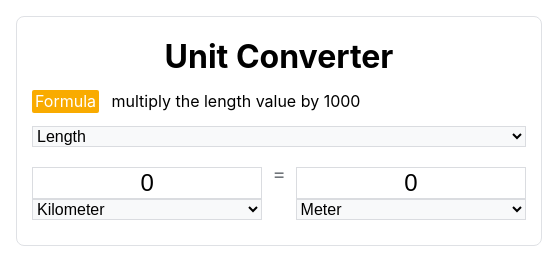
Test: Regression Test Suite › All inputs work › units swap correctly
Select "Meter" in the 1st dropdown with test id "unit-selector": (147, 210) x1=32 y1=199 x2=262 y2=220
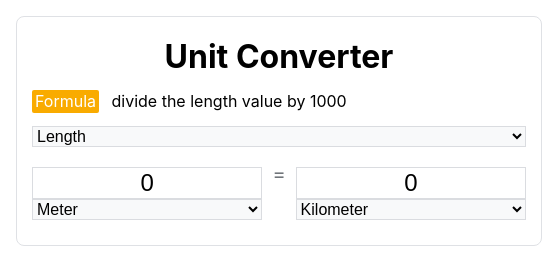
Expected: the dropdown with test id "unit-type-selector" shows "Length", x1=32 y1=126 x2=526 y2=147
Expected: the 3rd dropdown with test id "unit-selector" shows "Kilometer", x1=296 y1=199 x2=526 y2=220
